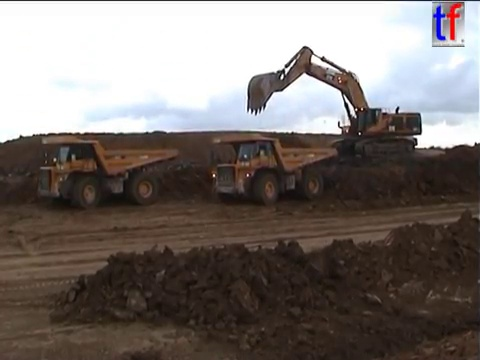excavator: (244, 44, 423, 160)
truck: (35, 132, 180, 210), (206, 131, 339, 206)
